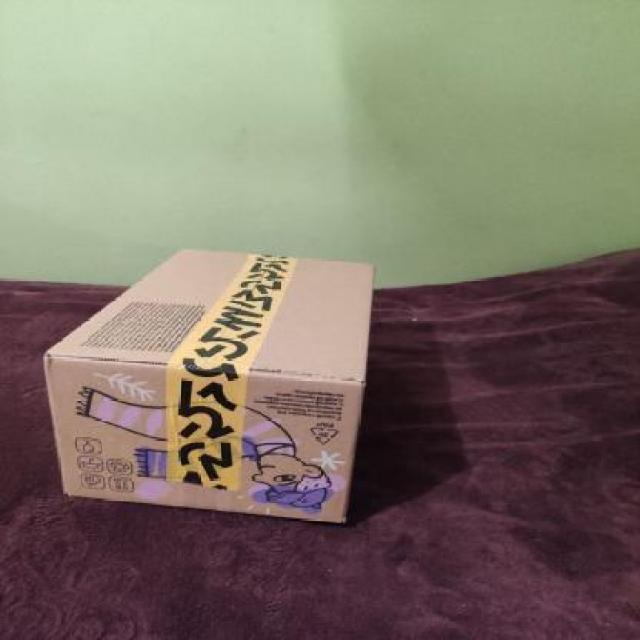box: (39, 242, 374, 528)
